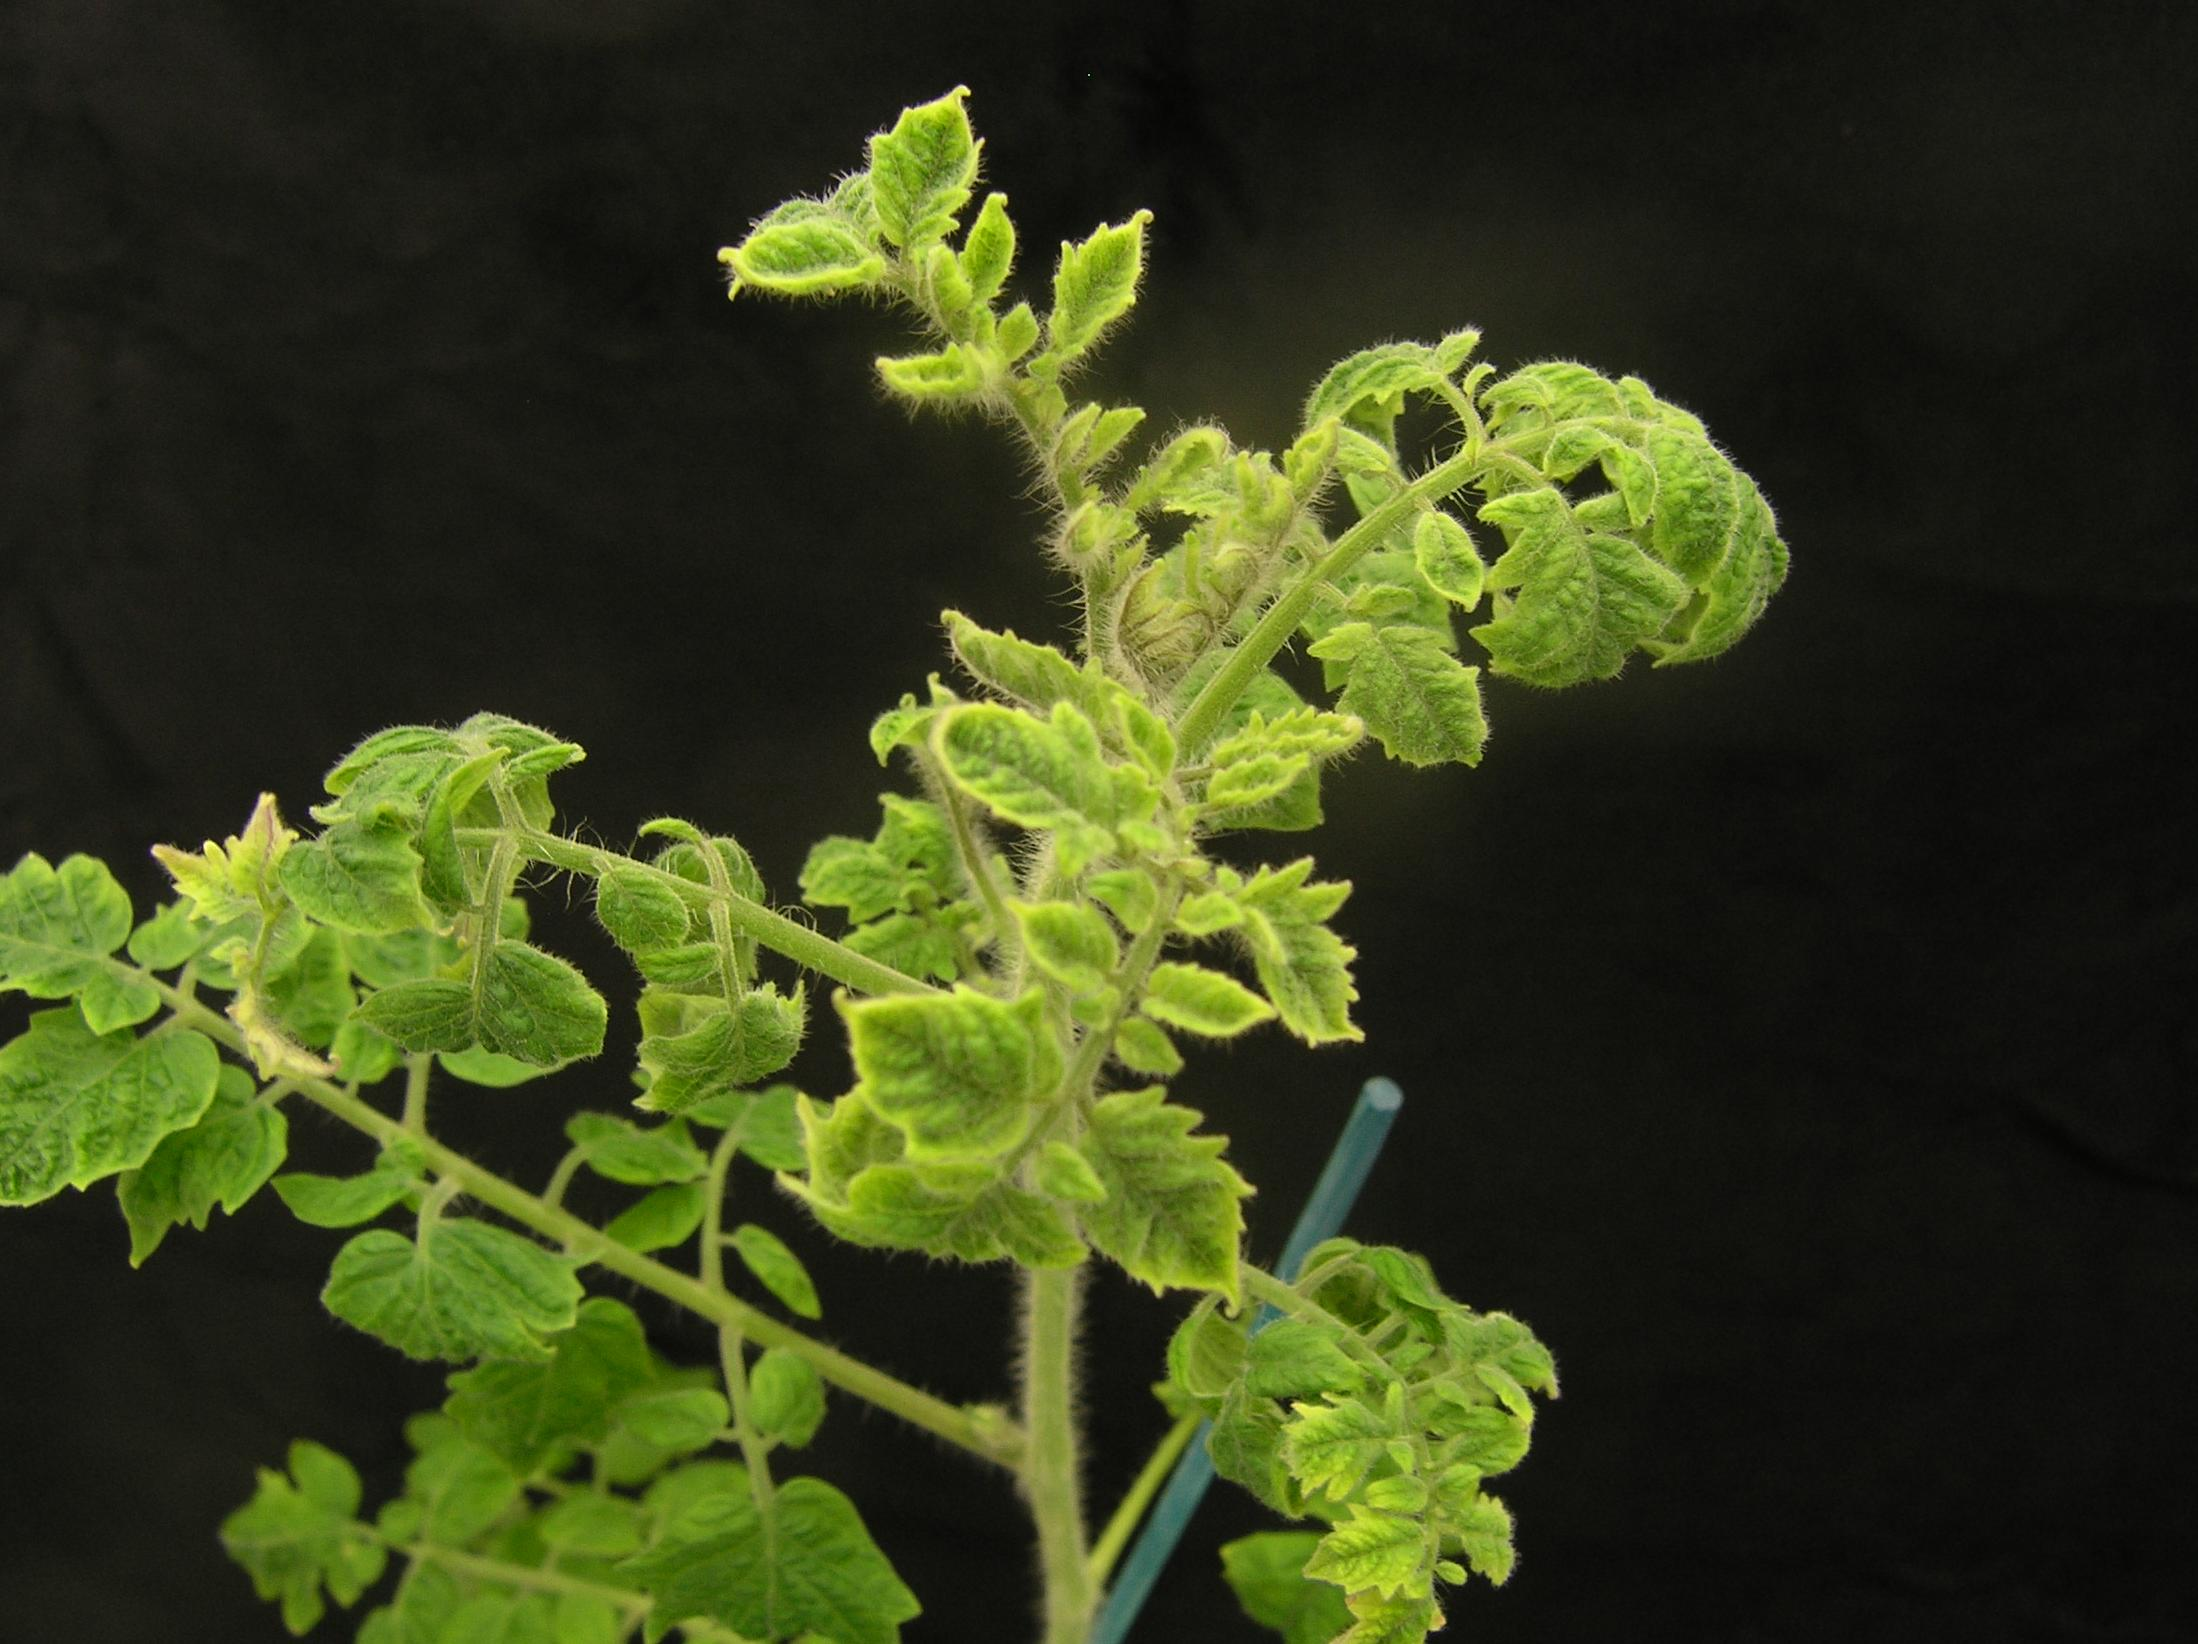Tomato leaf yellow virus: (799, 957, 1065, 1197), (0, 1009, 247, 1204), (1083, 1086, 1267, 1328), (1323, 599, 1519, 782), (0, 832, 150, 1052), (925, 691, 1141, 843), (1476, 470, 1616, 686), (1219, 869, 1385, 1050), (867, 40, 1001, 261), (694, 200, 879, 306), (1274, 1371, 1428, 1483), (1490, 335, 1626, 440), (1305, 1554, 1449, 1644), (1285, 1506, 1437, 1585)
